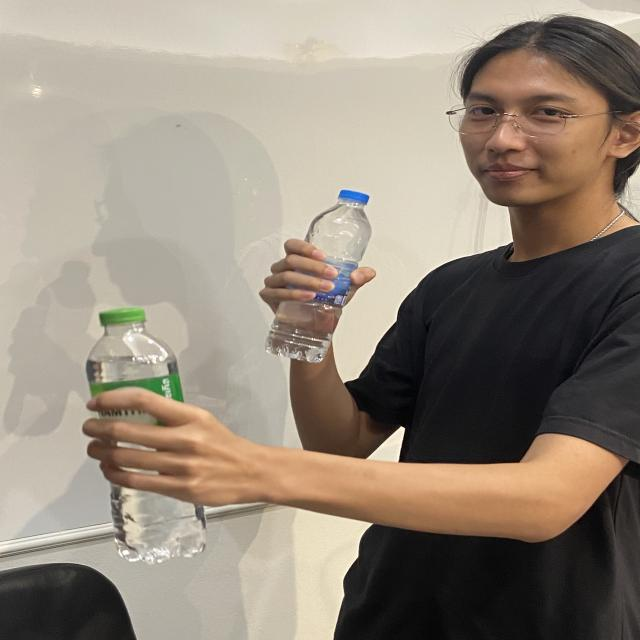bottle: (82, 306, 212, 564), (258, 187, 374, 366)
